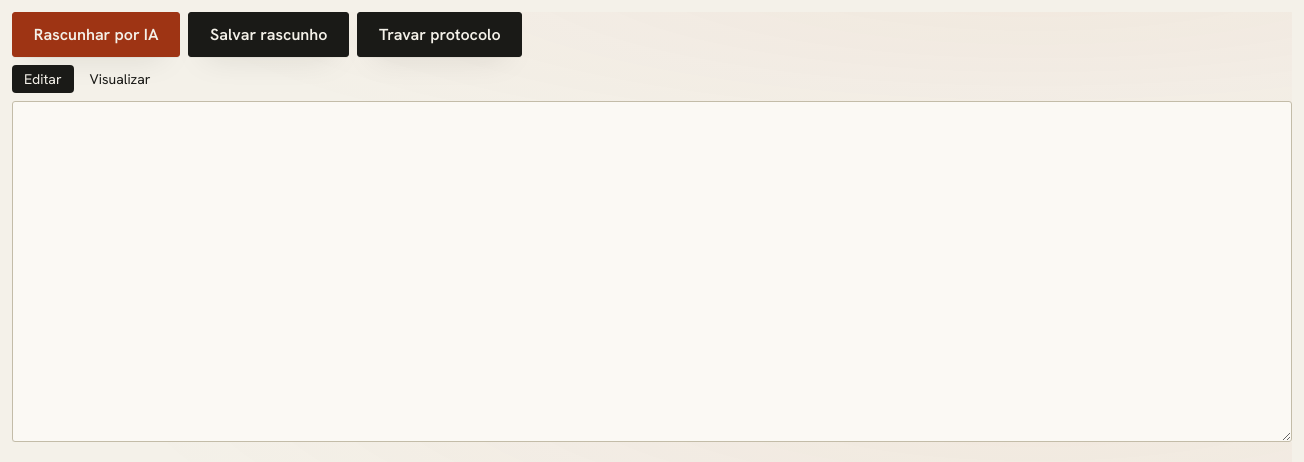
Test case: ProtocolEditor — toggle Editar/Visualizar › preview reflete a edição não salva do textarea (buffer vivo)
Type "# Rascunho vivo" into the text box named "Conteúdo do protocolo (Markdown)" at (652, 272), box x1=12 y1=101 x2=1292 y2=442
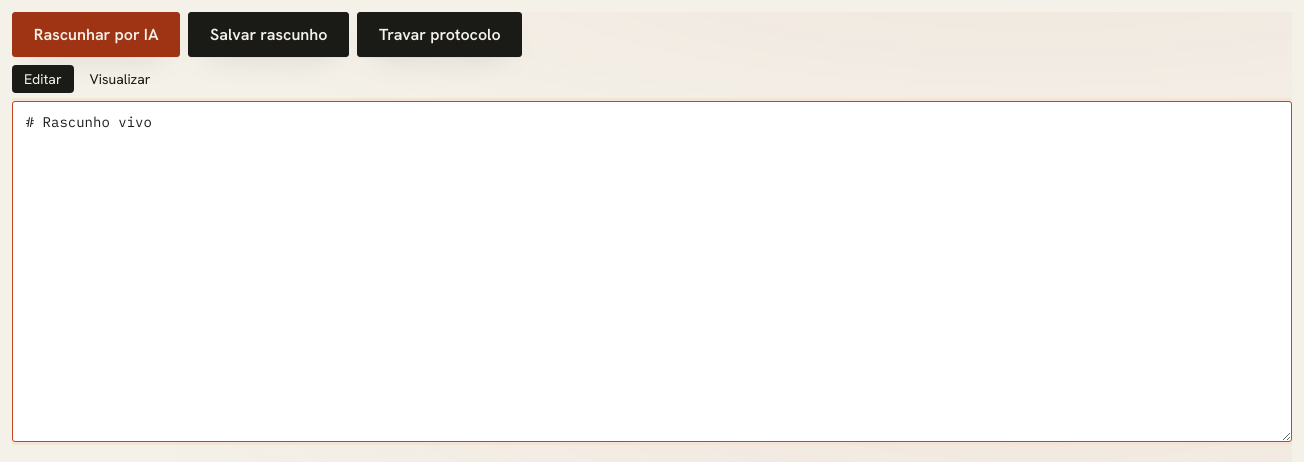
Click the tab "Visualizar" at (120, 79), box x1=78 y1=65 x2=162 y2=93
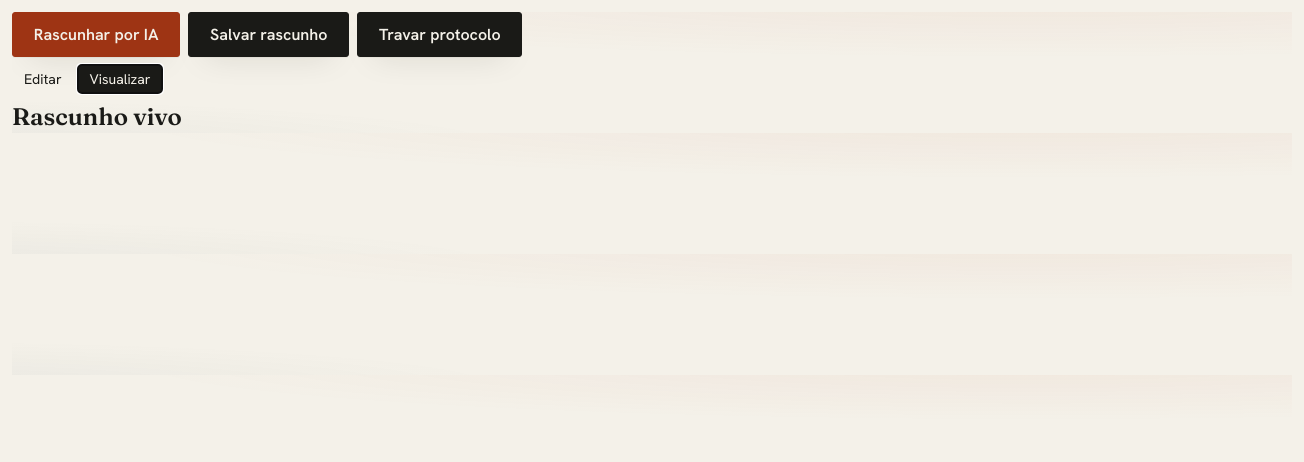
Now the heading "Rascunho vivo" is shown, box x1=12 y1=102 x2=182 y2=131
